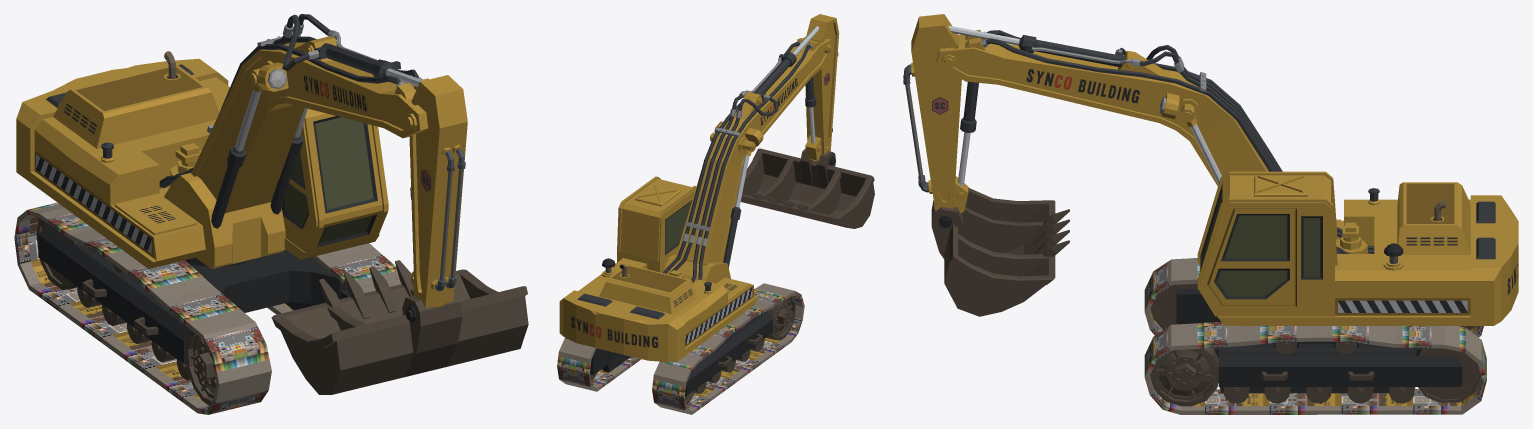
Rendered from SM_Veh_Excavator_01.fbx.
3 renders of one model, left to right at view 1: azimuth 30°, elevation 25°; view 2: azimuth 150°, elevation 25°; view 3: azimuth 270°, elevation 25°, orthographic. The views are drawn at different scales.
Visible parts, largest first — view 1: SM_Veh_Excavator_01_Top, SM_Veh_Excavator_01_Arm_01, SM_Veh_Excavator_01_Track_r, SM_Veh_Excavator_01, SM_Veh_Excavator_01_Bucket_02, SM_Veh_Excavator_01_Arm_02, SM_Veh_Excavator_01_Bucket_01, SM_Veh_Excavator_01_Glass, SM_Veh_Excavator_01_Track_l, SM_Veh_Excavator_01_Track_Wheel_fr, SM_Veh_Excavator_01_Track_Wheel_rr; view 2: SM_Veh_Excavator_01_Top, SM_Veh_Excavator_01_Arm_01, SM_Veh_Excavator_01_Track_r, SM_Veh_Excavator_01_Bucket_02, SM_Veh_Excavator_01_Bucket_01, SM_Veh_Excavator_01_Arm_02, SM_Veh_Excavator_01, SM_Veh_Excavator_01_Track_l, SM_Veh_Excavator_01_Track_Wheel_fr, SM_Veh_Excavator_01_Glass; view 3: SM_Veh_Excavator_01_Top, SM_Veh_Excavator_01_Arm_01, SM_Veh_Excavator_01, SM_Veh_Excavator_01_Track_l, SM_Veh_Excavator_01_Arm_02, SM_Veh_Excavator_01_Bucket_02, SM_Veh_Excavator_01_Bucket_01, SM_Veh_Excavator_01_Glass, SM_Veh_Excavator_01_Track_Wheel_fl, SM_Veh_Excavator_01_Track_r, SM_Veh_Excavator_01_Track_Wheel_rl, SM_Veh_Excavator_01_Track_Wheel_fr.
Boxes of the visible parts, x1,y1,x2,y2 form: SM_Veh_Excavator_01_Top: [16, 51, 388, 268]; SM_Veh_Excavator_01_Arm_01: [191, 14, 428, 228]; SM_Veh_Excavator_01_Track_r: [14, 202, 271, 414]; SM_Veh_Excavator_01: [38, 225, 350, 380]; SM_Veh_Excavator_01_Bucket_02: [271, 269, 528, 394]; SM_Veh_Excavator_01_Arm_02: [405, 75, 467, 321]; SM_Veh_Excavator_01_Bucket_01: [318, 260, 475, 381]; SM_Veh_Excavator_01_Glass: [285, 117, 373, 242]; SM_Veh_Excavator_01_Track_l: [267, 243, 401, 314]; SM_Veh_Excavator_01_Track_Wheel_fr: [186, 330, 216, 405]; SM_Veh_Excavator_01_Track_Wheel_rr: [36, 218, 76, 290]; SM_Veh_Excavator_01_Top: [559, 176, 757, 362]; SM_Veh_Excavator_01_Arm_01: [675, 26, 833, 267]; SM_Veh_Excavator_01_Track_r: [652, 283, 804, 414]; SM_Veh_Excavator_01_Bucket_02: [740, 148, 874, 228]; SM_Veh_Excavator_01_Bucket_01: [751, 148, 841, 217]; SM_Veh_Excavator_01_Arm_02: [805, 14, 839, 165]; SM_Veh_Excavator_01: [590, 312, 772, 396]; SM_Veh_Excavator_01_Track_l: [557, 338, 641, 391]; SM_Veh_Excavator_01_Track_Wheel_fr: [765, 295, 795, 340]; SM_Veh_Excavator_01_Glass: [665, 201, 691, 251]; SM_Veh_Excavator_01_Top: [1197, 171, 1518, 325]; SM_Veh_Excavator_01_Arm_01: [936, 25, 1282, 186]; SM_Veh_Excavator_01: [1176, 289, 1462, 403]; SM_Veh_Excavator_01_Track_l: [1144, 321, 1486, 414]; SM_Veh_Excavator_01_Arm_02: [903, 14, 978, 228]; SM_Veh_Excavator_01_Bucket_02: [944, 187, 1055, 316]; SM_Veh_Excavator_01_Bucket_01: [931, 200, 1069, 276]; SM_Veh_Excavator_01_Glass: [1203, 193, 1320, 296]; SM_Veh_Excavator_01_Track_Wheel_fl: [1150, 348, 1218, 406]; SM_Veh_Excavator_01_Track_r: [1144, 258, 1483, 337]; SM_Veh_Excavator_01_Track_Wheel_rl: [1416, 348, 1481, 402]; SM_Veh_Excavator_01_Track_Wheel_fr: [1150, 283, 1197, 329].
Size of the model in its own units: 354 by 651 by 1046.
